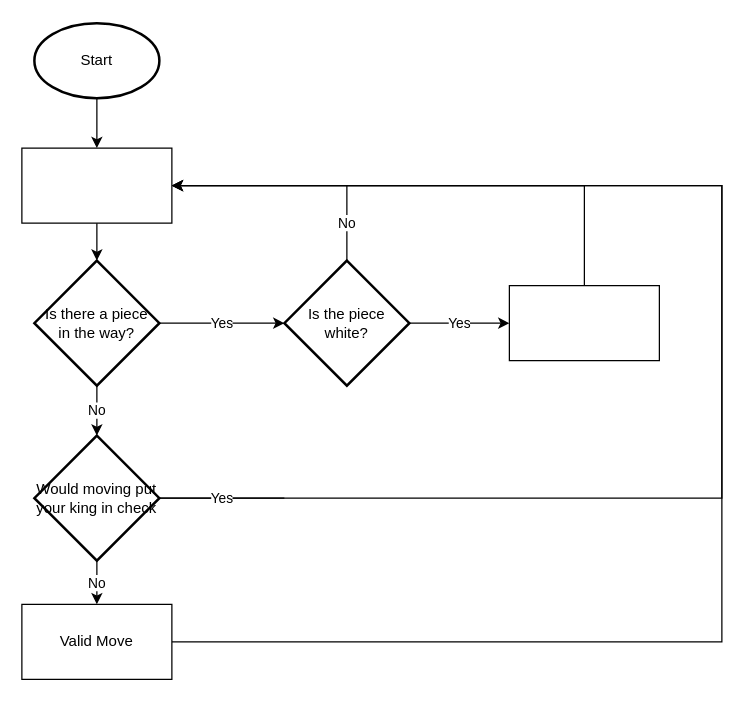
Image size: 754x701. Some labels were removed from this diagram. Here are the shapes that lost their labels. From the top down, the box of each, then its label:
(21, 147, 172, 223): Check moves in diagonals one by one
(508, 284, 659, 361): Valid move. Don't check further moves in directionl
